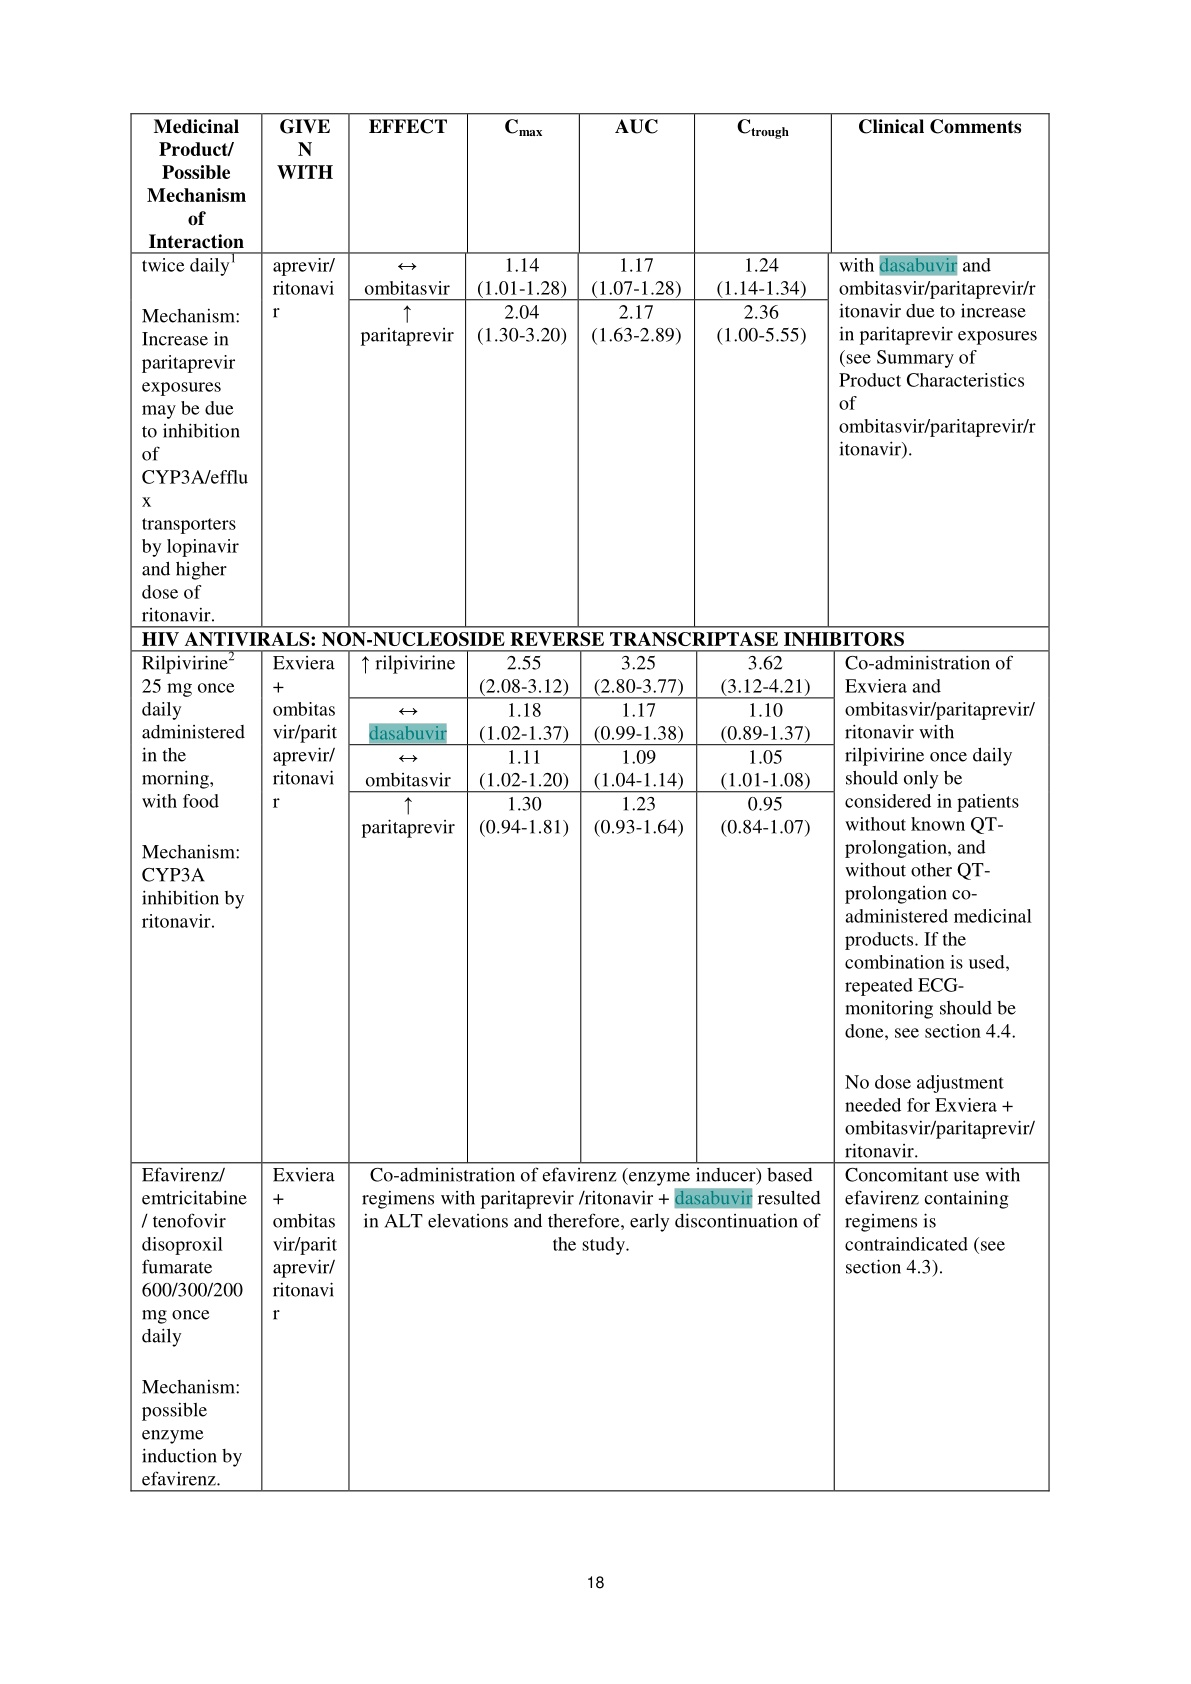merged_cells: (129, 112, 1051, 1493)
